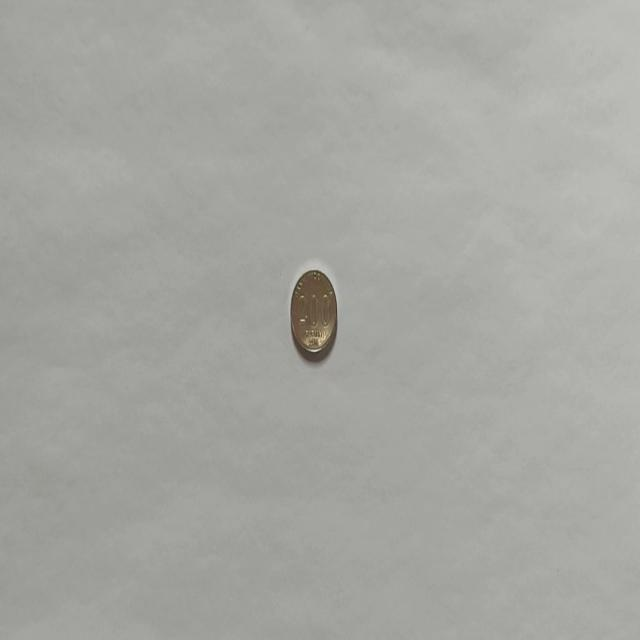dua ratus rupiah: (288, 266, 338, 360)
